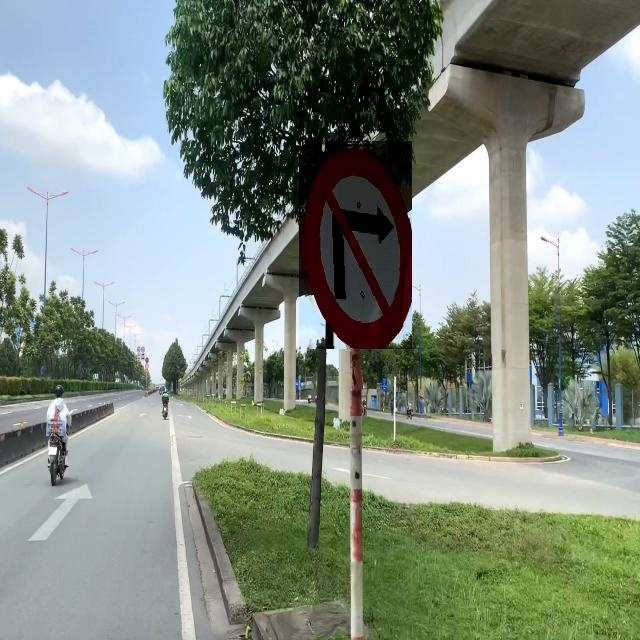bien_cam: (299, 141, 412, 349)
